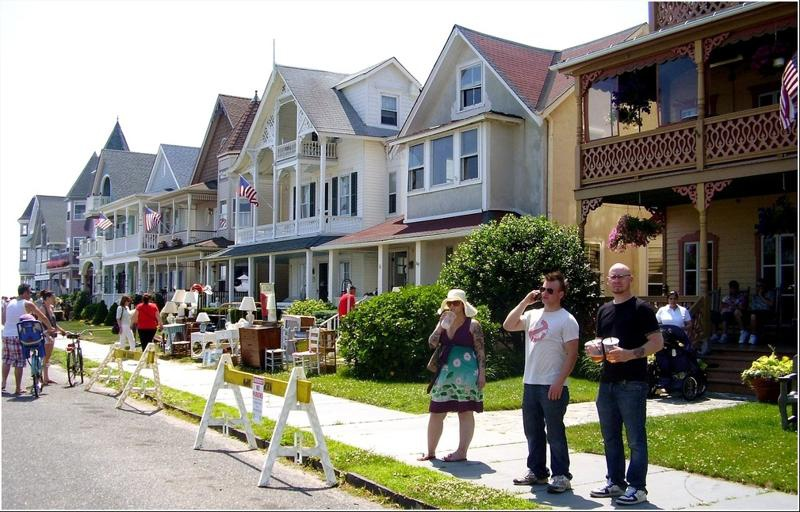non-vehicle: (18, 315, 50, 398), (53, 329, 94, 387)
